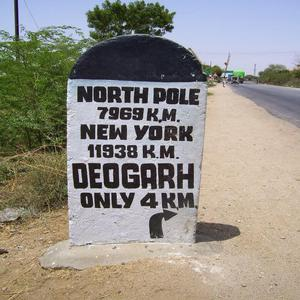kmstone: (67, 37, 209, 253)
